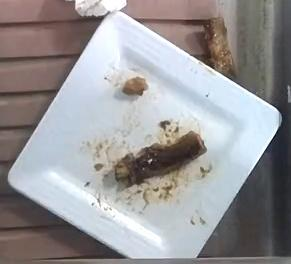ribs: (113, 130, 204, 184)
